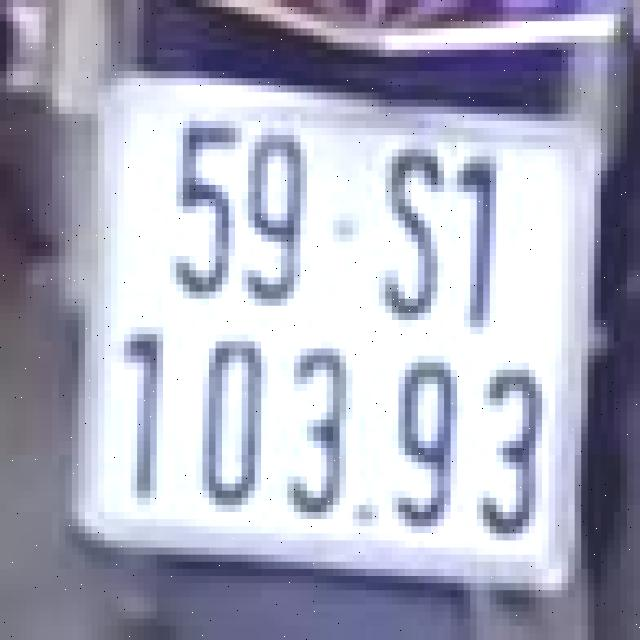0: (192, 327, 264, 519)
1: (448, 149, 520, 327), (111, 320, 176, 512)
3: (473, 356, 552, 548), (281, 342, 359, 526)
5: (163, 114, 242, 306)
9: (385, 352, 464, 544), (242, 118, 307, 310)
S: (369, 135, 454, 334)
